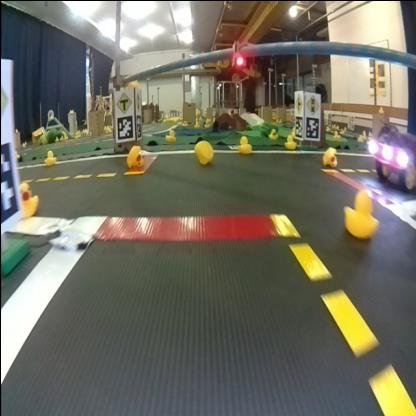Duckie: (344, 190, 375, 236), (18, 182, 38, 213), (194, 140, 212, 162), (127, 145, 143, 167), (323, 146, 337, 164), (238, 134, 250, 150), (284, 134, 294, 146), (166, 128, 176, 140), (46, 150, 53, 164), (270, 128, 278, 136)
Duckiebot: (368, 119, 415, 190)
Intersection sign: (115, 89, 132, 113), (294, 91, 304, 113)
QR code: (294, 114, 302, 136)
Signal sign: (305, 94, 320, 114)
Traffic light: (234, 39, 246, 67)
